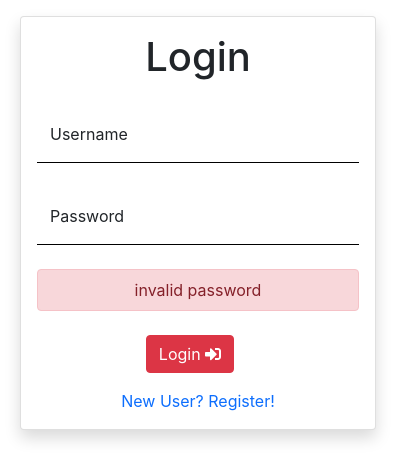
Test case: Login Tests › should check loading spinner is visible after clicking on login
Type "testuser" into the field labelled "Username" at (198, 134), box top-left (37, 105), bottom-right (359, 163)
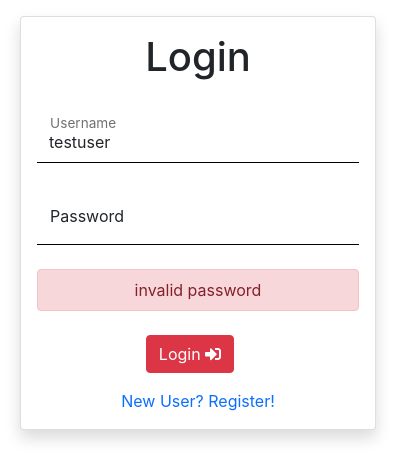
Type "testuser" into the password field labelled "Password" at (198, 216), box top-left (37, 187), bottom-right (359, 245)
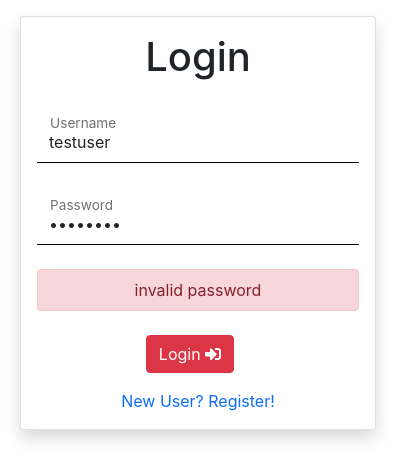
Click the button "Login" at (190, 354), box top-left (146, 335), bottom-right (234, 373)
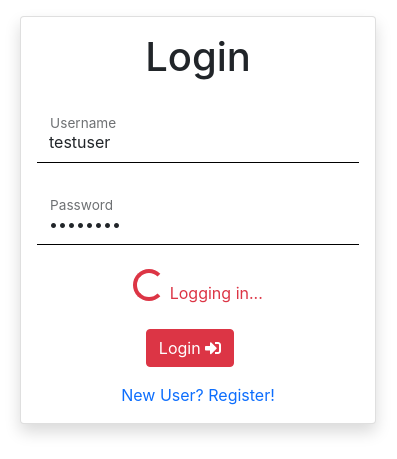
Check: the text "Logging in..." is shown, box top-left (165, 283), bottom-right (263, 303)
